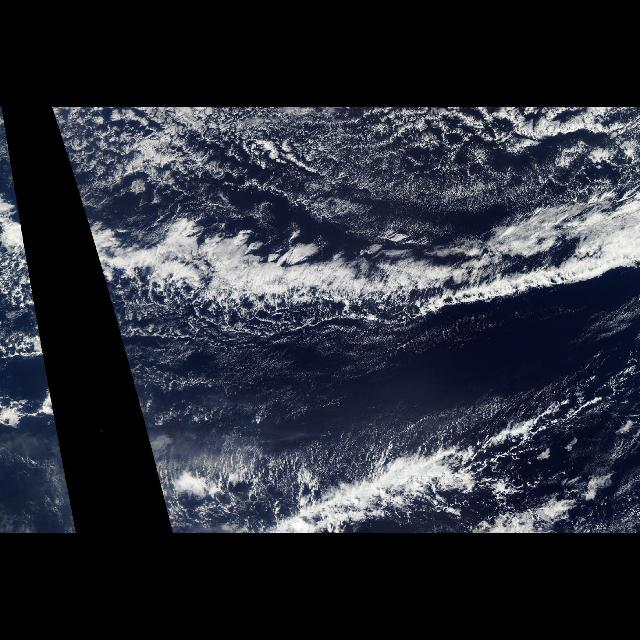Fish: (72, 174, 640, 534), (0, 175, 78, 533)
Sugar: (173, 108, 542, 230), (120, 340, 414, 428)
